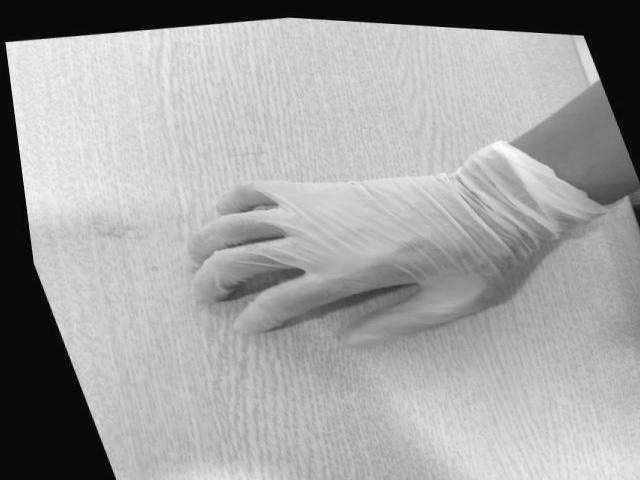gloved: (182, 175, 528, 340)
